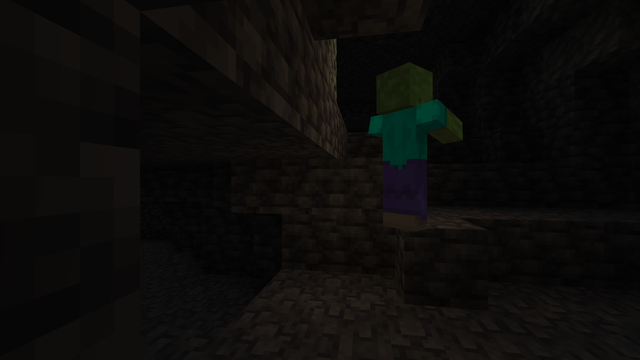zombies: (379, 66, 434, 232)
